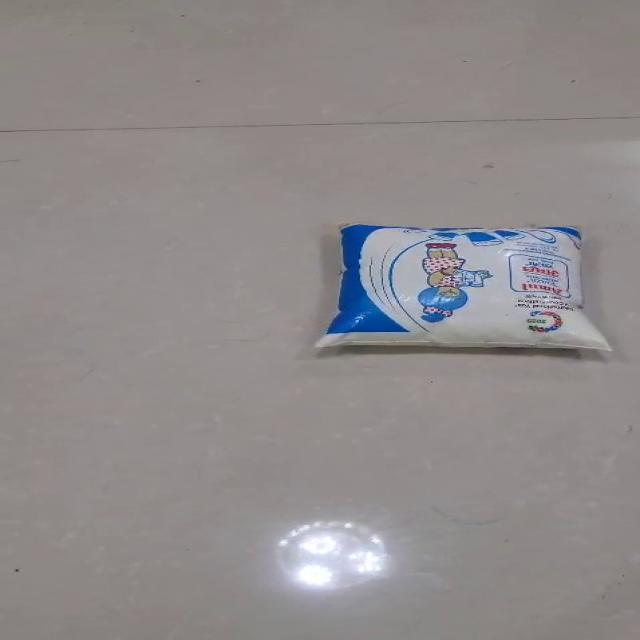plastic: (313, 221, 612, 352)
